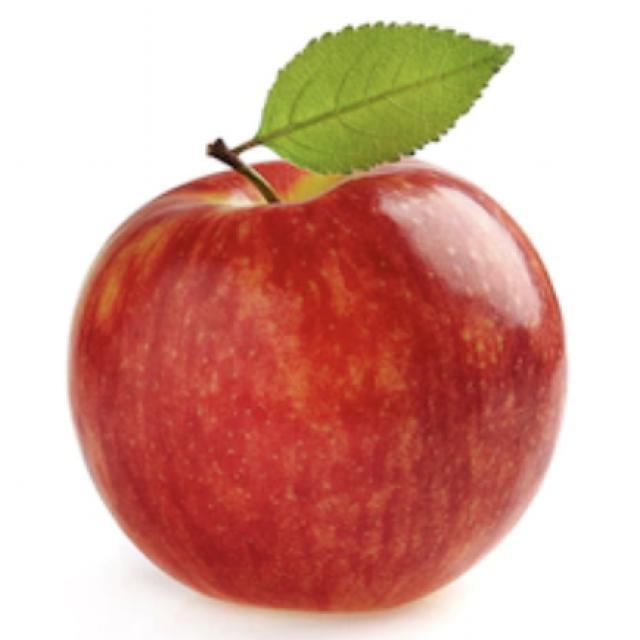Fresh Apple: (89, 133, 551, 640)
